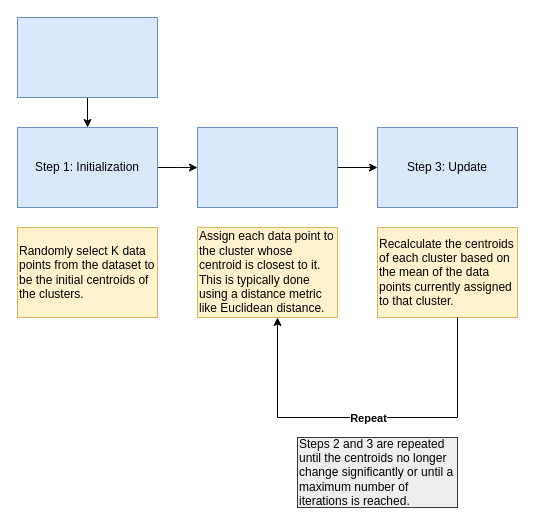
Some shapes in this 535 by 526 pixel diagram are drawn without their labels. The centre of each missing label's shape, as x and y in pixels:
"Step 0: Specify the number of clusters K and the max number of iterations" belongs at [87,57].
"Step 2: Assignment" belongs at [267,167].
